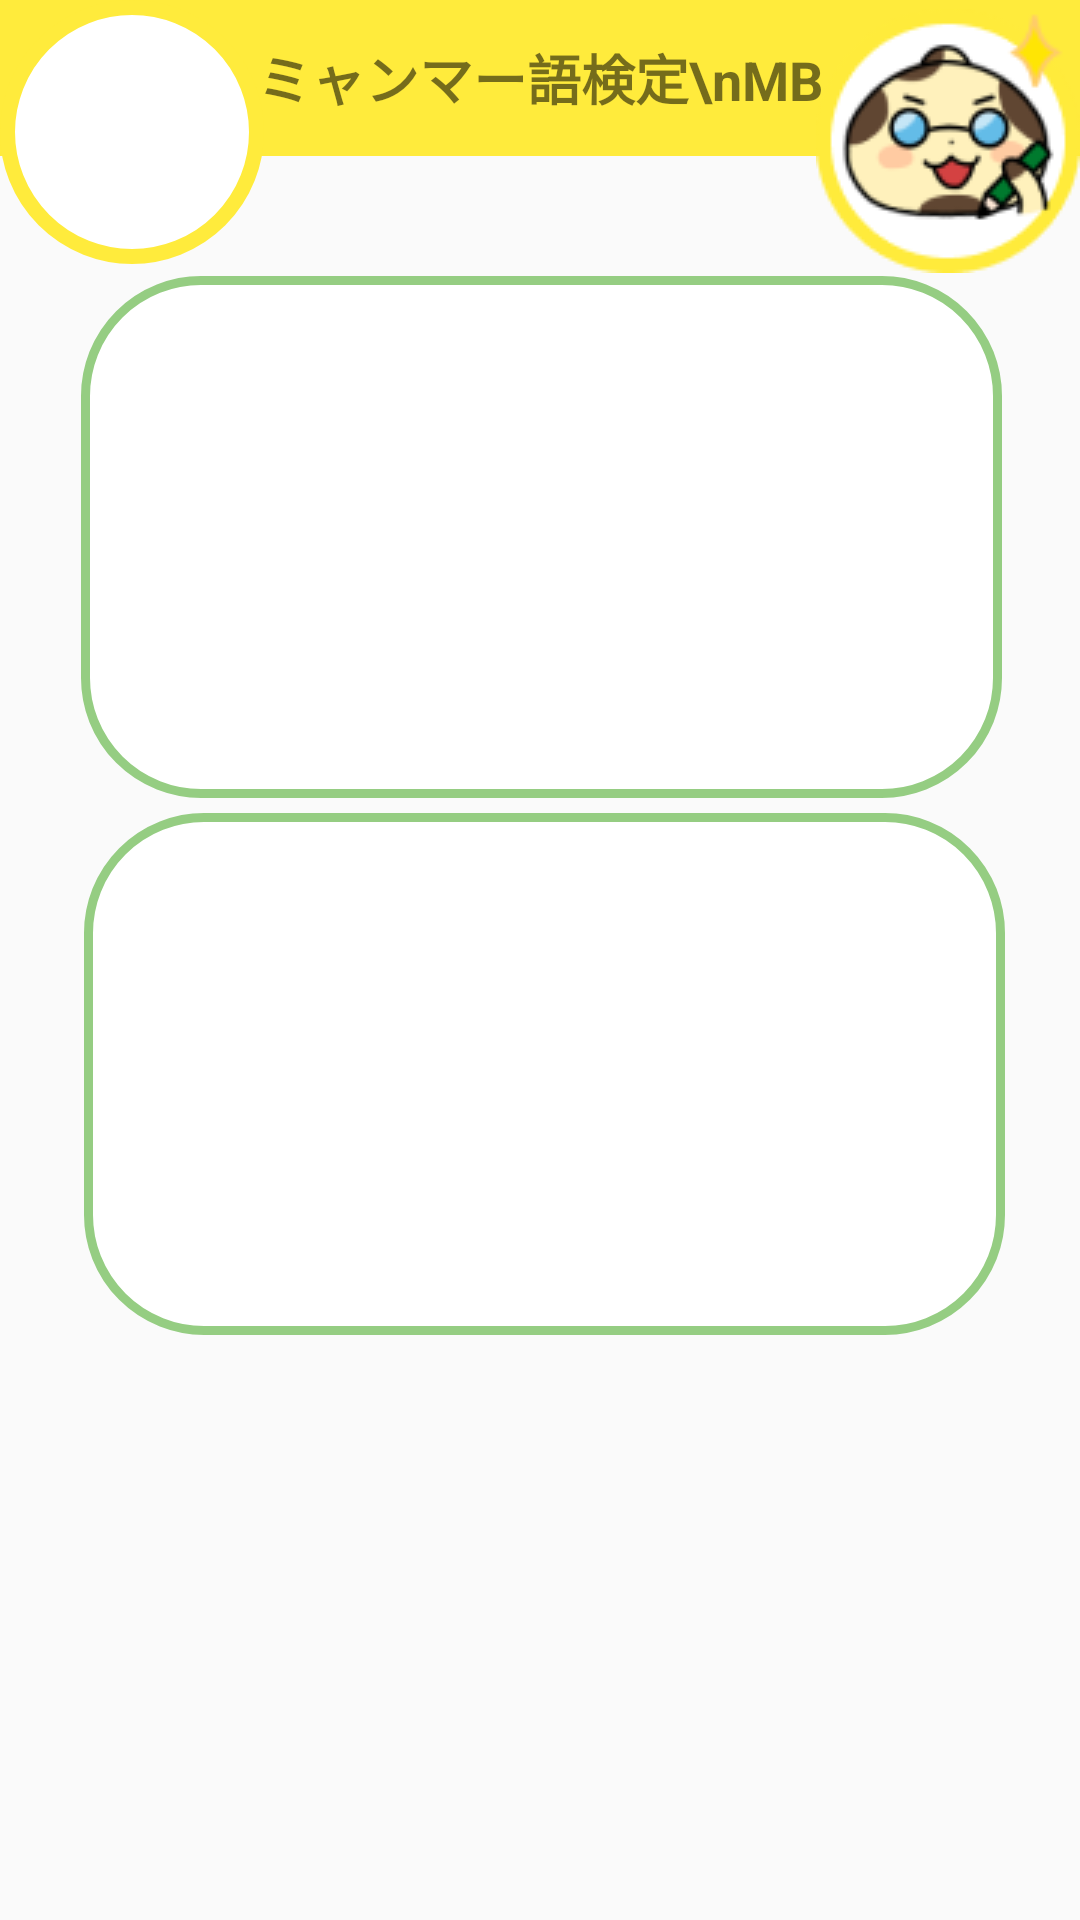

Icons on this 1080 x 1920 Android screen, each with the point to tap as [x,y]:
study sansyo: [948,141]
